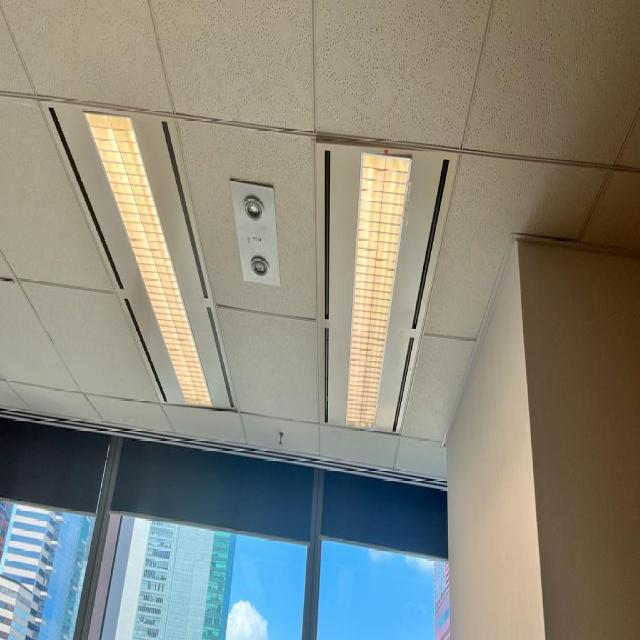Light-Opened: (39, 99, 241, 407), (317, 135, 462, 437)
